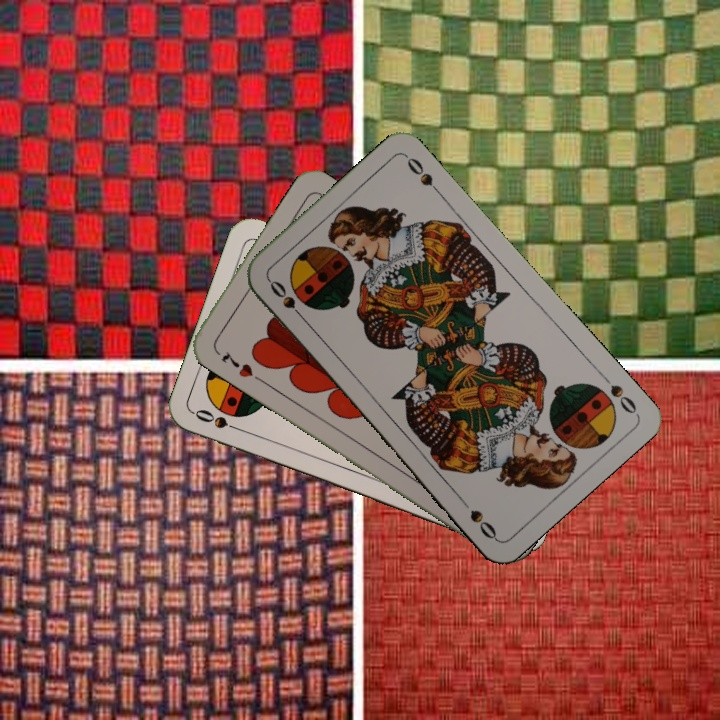H7: (217, 347, 256, 380)
SO: (264, 276, 309, 324), (595, 369, 640, 417), (190, 405, 248, 435)
